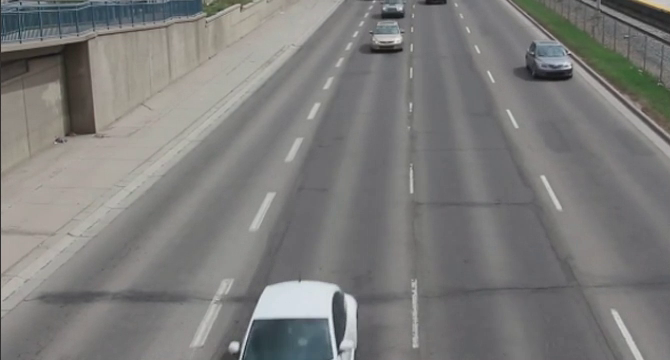car: (227, 280, 362, 360), (522, 38, 574, 81), (370, 18, 405, 56)
